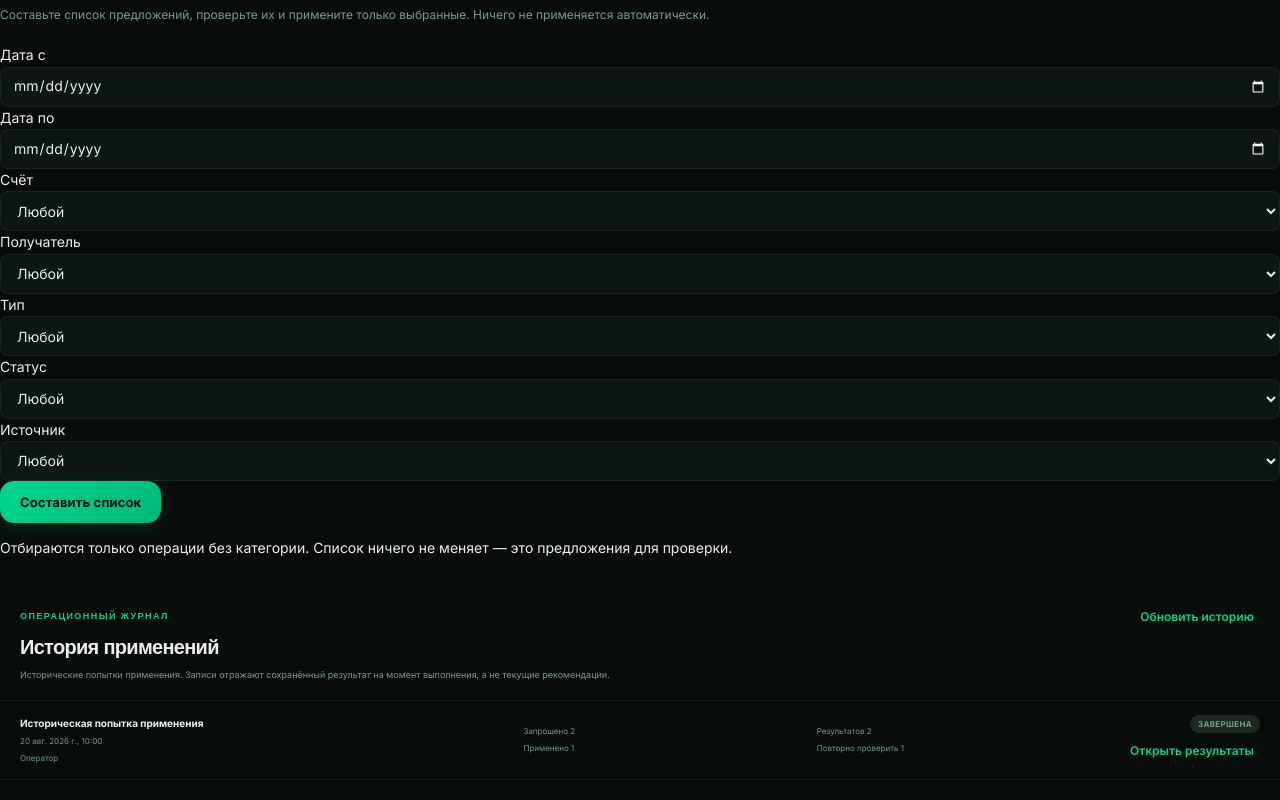
Test: history is separate, opens factual detail, and never fetches current transaction data
(page scrolled)
Click the button "Открыть результаты" at point(1192, 751), box [1124, 737, 1260, 765]
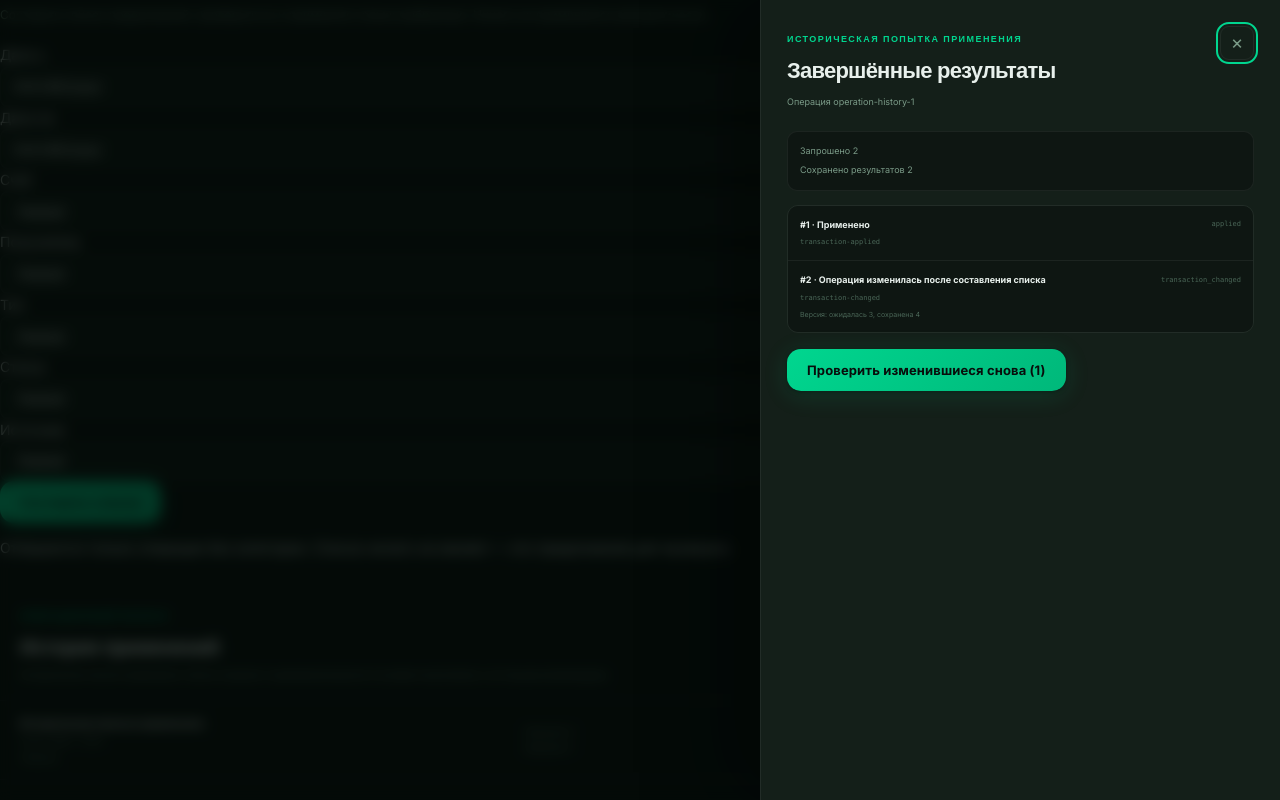
Check: the text "transaction_changed" is shown, box [1161, 275, 1241, 286]
Check: the text "transaction-changed" is shown, box [800, 294, 880, 302]
